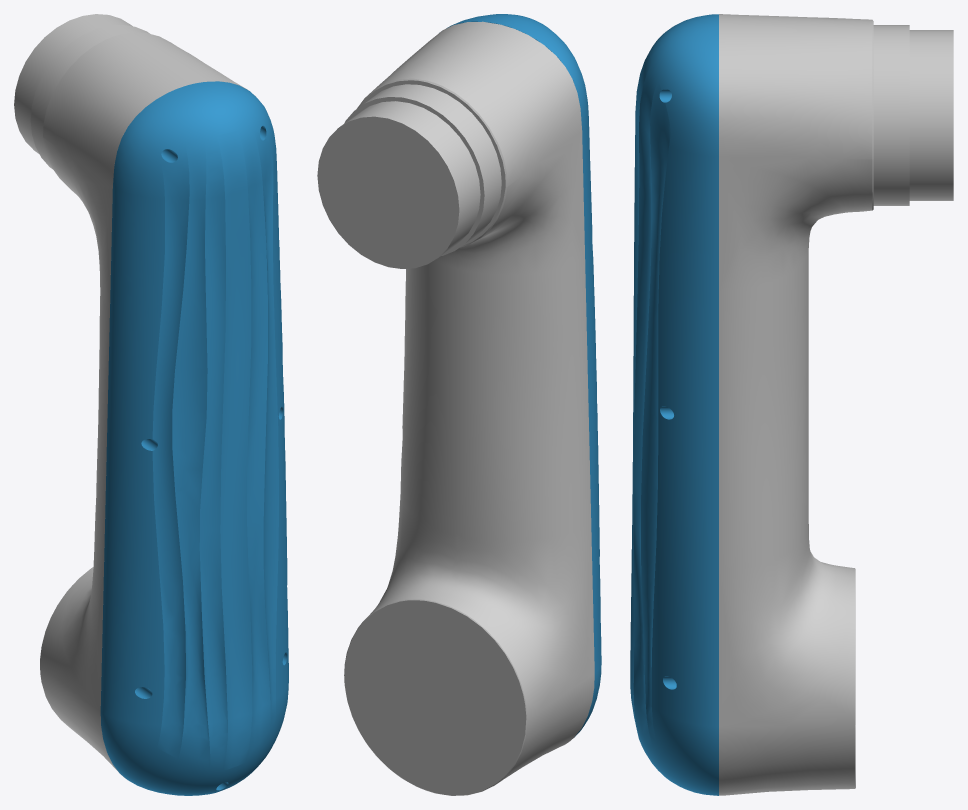
Rendered from NOVA2_J3_ASM.gltf.
The picture shows the model from 3 angles, left to right: view 1: azimuth 30°, elevation 25°; view 2: azimuth 150°, elevation 25°; view 3: azimuth 270°, elevation 25°; orthographic projection. The views are drawn at different scales.
Parts seen in each view (by area): view 1: J3-PART1, J3-PART2; view 2: J3-PART2, J3-PART1; view 3: J3-PART2, J3-PART1.
Part boxes in pixels (x1=…): J3-PART1: x1=100, y1=81, x2=288, y2=795; J3-PART2: x1=14, y1=14, x2=255, y2=778; J3-PART2: x1=317, y1=21, x2=594, y2=795; J3-PART1: x1=439, y1=14, x2=601, y2=737; J3-PART2: x1=719, y1=14, x2=953, y2=795; J3-PART1: x1=630, y1=14, x2=718, y2=795.
Size of the model in its own units: 0.082 by 0.3017 by 0.1172.
